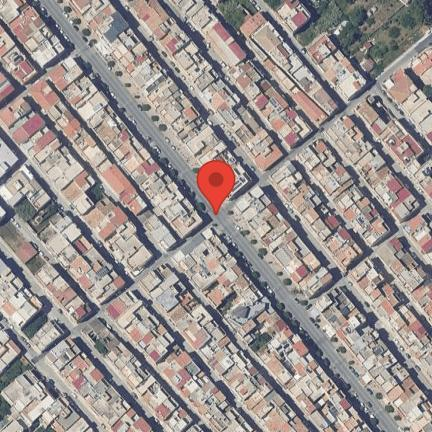built: (183, 235, 372, 430), (70, 2, 254, 201), (125, 2, 281, 176), (146, 266, 309, 429), (2, 102, 159, 268), (28, 81, 179, 247), (55, 64, 205, 224), (306, 143, 430, 323), (176, 3, 315, 148), (107, 296, 253, 432), (3, 144, 124, 300), (316, 288, 430, 431), (331, 117, 430, 263), (234, 16, 340, 131), (88, 327, 198, 431), (235, 185, 328, 305), (0, 205, 92, 325), (273, 160, 364, 276), (354, 261, 430, 381), (51, 343, 154, 430), (360, 94, 429, 199), (2, 371, 100, 431), (1, 261, 63, 350), (387, 50, 432, 150), (0, 3, 66, 65), (310, 37, 369, 98), (2, 33, 37, 84), (279, 2, 313, 33), (1, 330, 20, 368), (2, 70, 16, 101)
vegetation_low: (313, 3, 430, 77)
